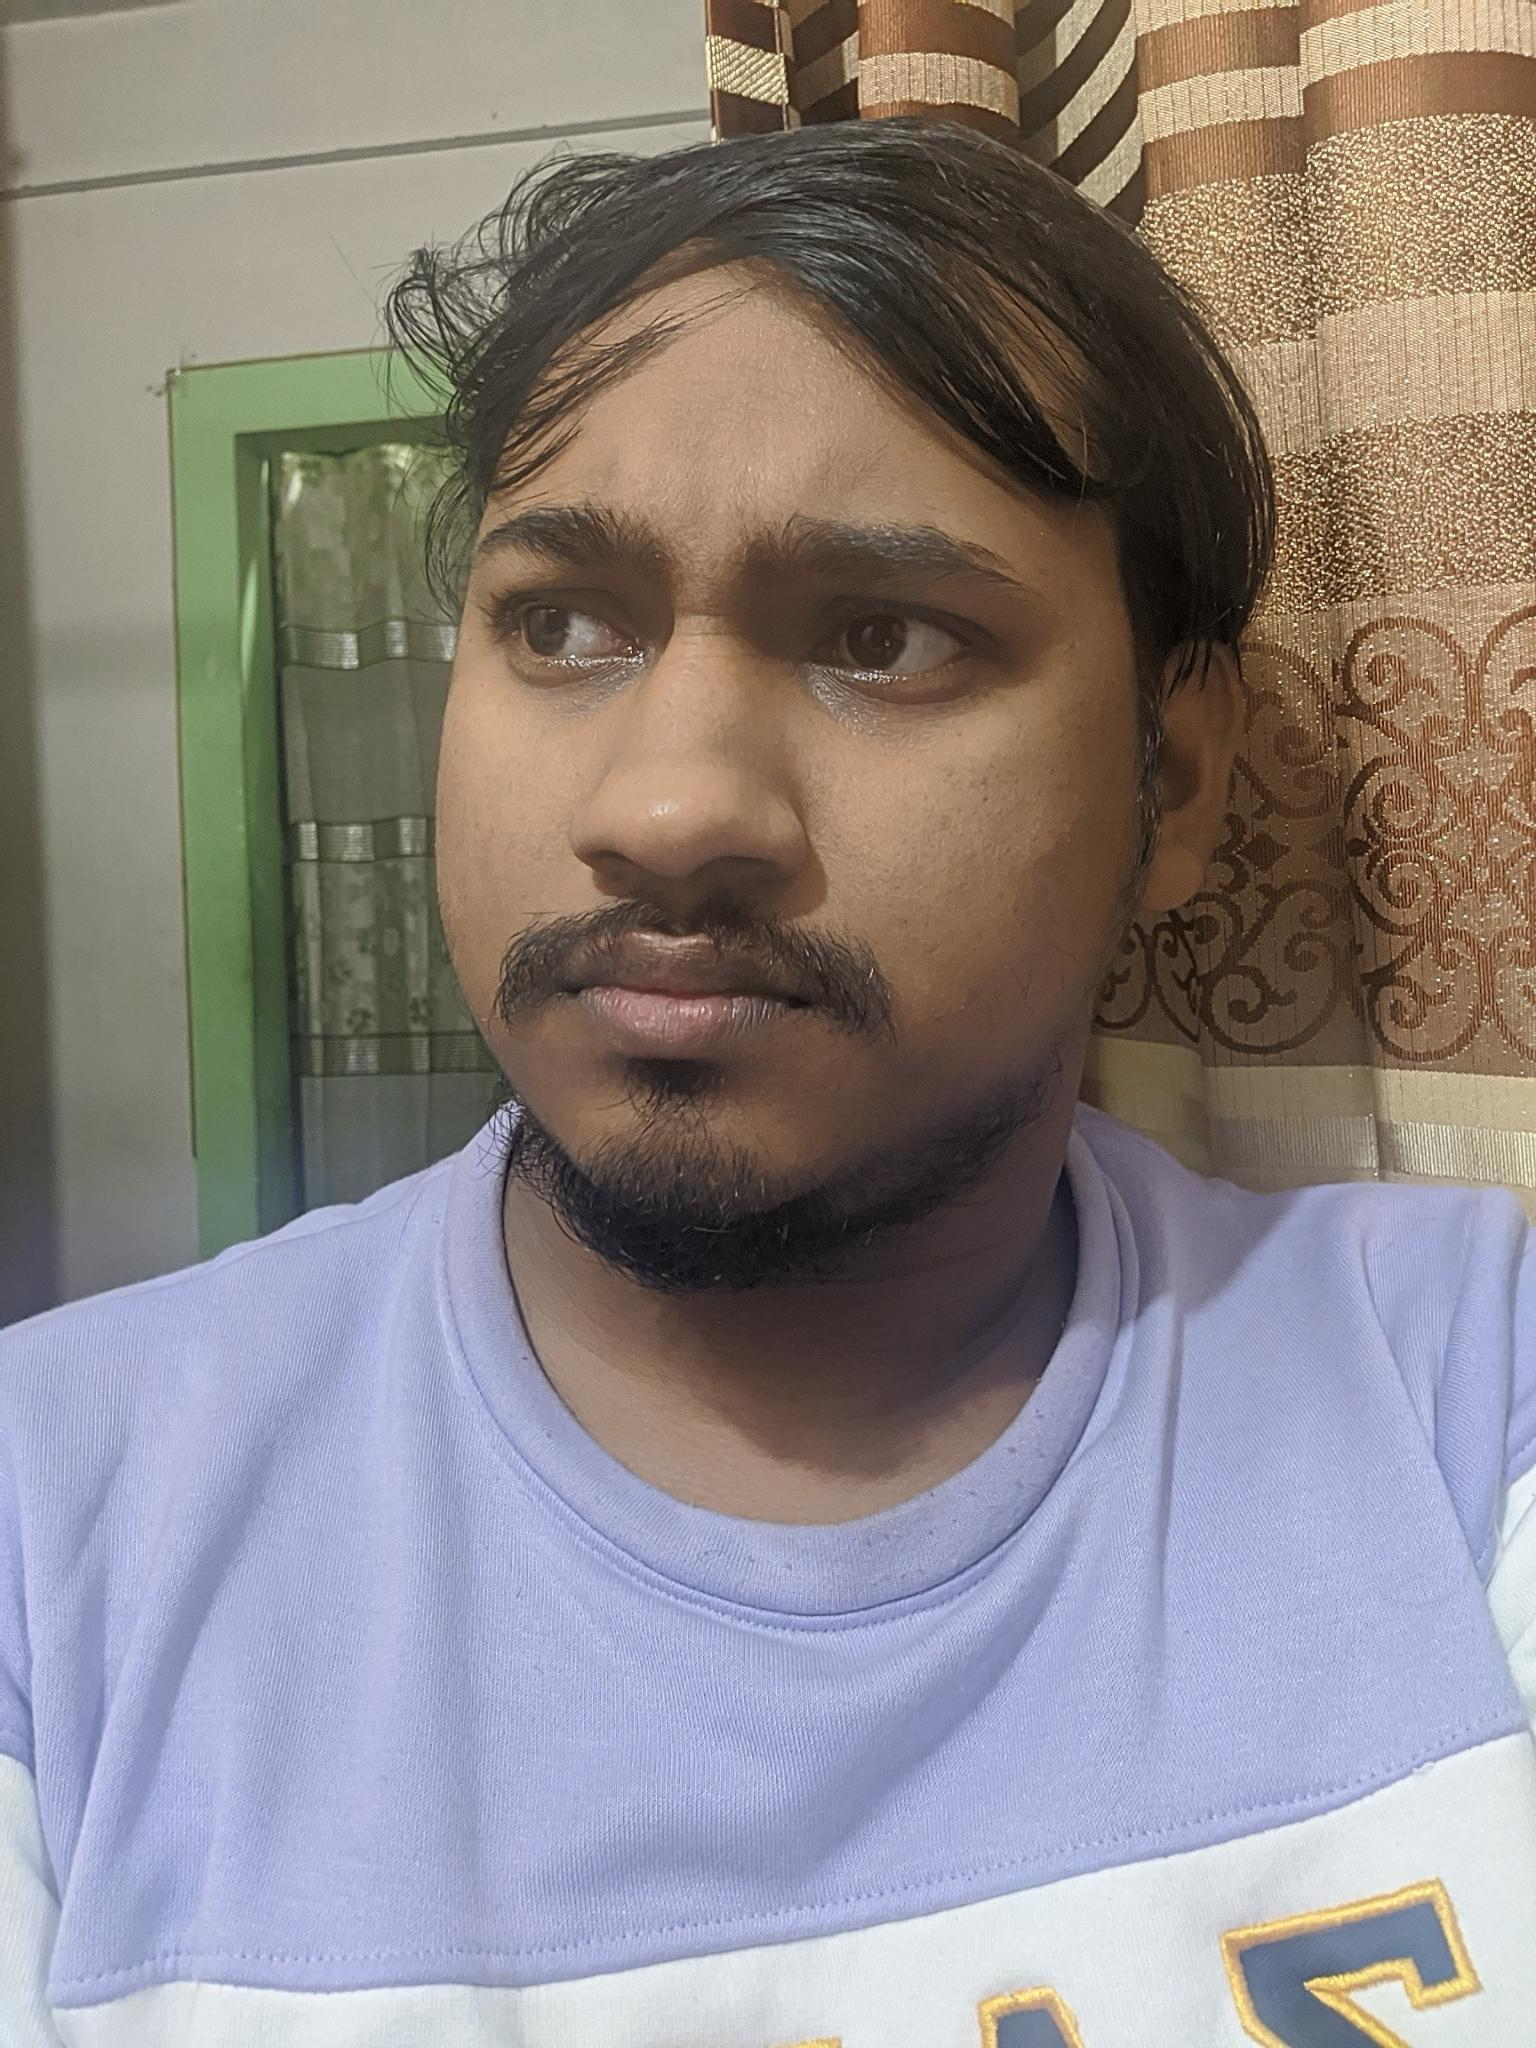Angry: (428, 427, 1094, 1205)
